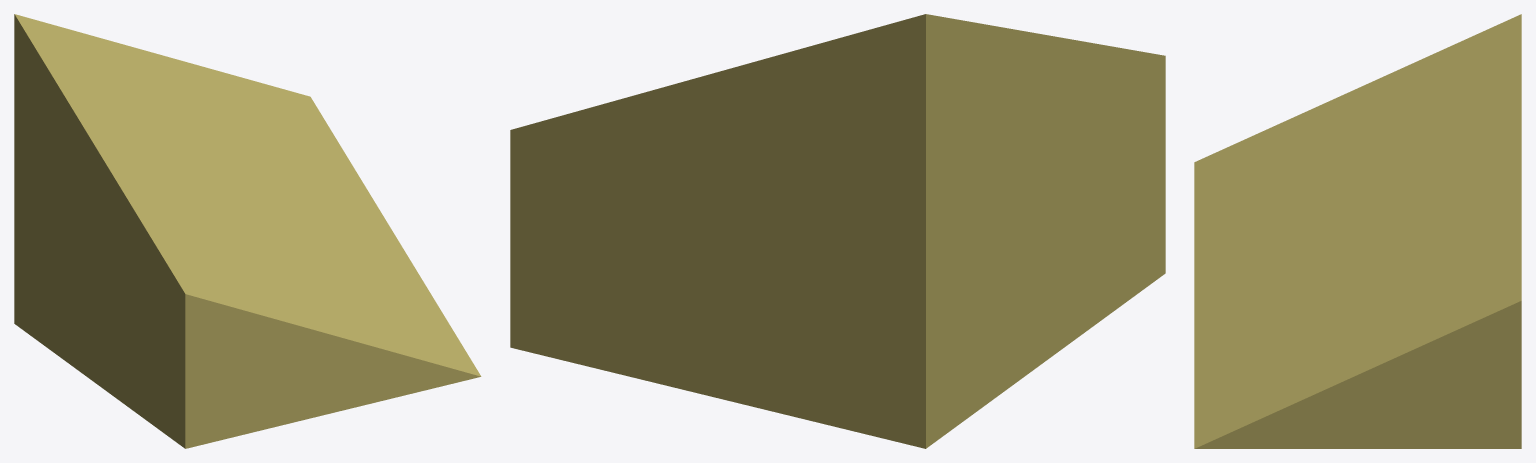
File: Goal_OuterCorner.glb
3 views of the same model, side by side, from view 1: azimuth 30°, elevation 25°; view 2: azimuth 150°, elevation 25°; view 3: azimuth 270°, elevation 25° (orthographic). The views are drawn at different scales.
Parts seen in each view (by area): view 1: Goal_OuterCorner_body; view 2: Goal_OuterCorner_body; view 3: Goal_OuterCorner_body.
Boxes of the visible parts, x1,y1,x2,y2 form: Goal_OuterCorner_body: [14, 14, 481, 448]; Goal_OuterCorner_body: [510, 14, 1165, 448]; Goal_OuterCorner_body: [1194, 14, 1521, 448].
Size of the model in its own units: 1 by 1 by 1.
